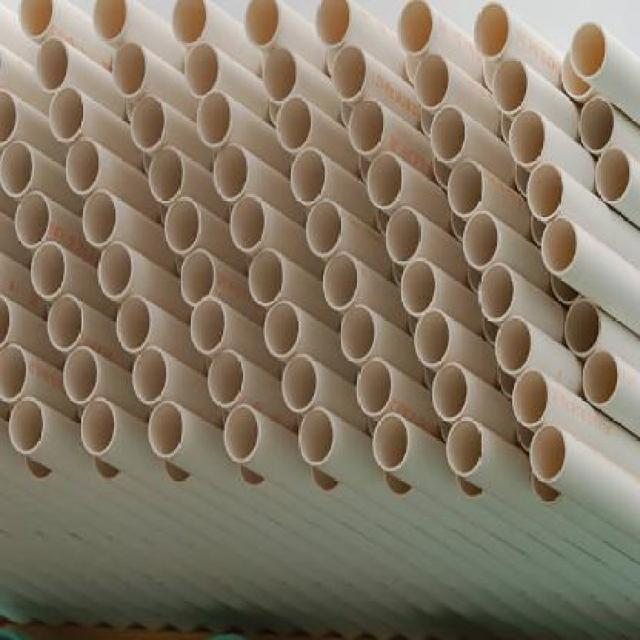pipe: (526, 162, 565, 221), (540, 217, 579, 276), (446, 417, 483, 479), (462, 211, 500, 270), (431, 363, 470, 420), (529, 426, 568, 483), (323, 253, 360, 313), (571, 20, 608, 80), (373, 414, 411, 472), (430, 105, 468, 163), (448, 158, 485, 217), (385, 206, 422, 265), (31, 242, 68, 301), (97, 242, 134, 301), (400, 258, 437, 317), (479, 263, 516, 322), (46, 294, 83, 353), (414, 309, 451, 368), (496, 317, 533, 376), (582, 351, 619, 410), (357, 358, 394, 417), (579, 95, 616, 154), (414, 54, 452, 111), (306, 200, 342, 260), (513, 370, 550, 428), (9, 396, 46, 454), (80, 397, 117, 455), (223, 405, 260, 463), (299, 408, 336, 466), (493, 57, 530, 115), (65, 138, 101, 197), (291, 148, 327, 207), (115, 295, 151, 354), (565, 298, 601, 357), (14, 191, 51, 248), (165, 197, 202, 254), (180, 249, 217, 306), (331, 45, 368, 102), (509, 111, 546, 168), (231, 193, 266, 253), (340, 305, 376, 363), (132, 347, 168, 405), (594, 148, 631, 204), (474, 3, 511, 59), (263, 301, 300, 357), (48, 88, 85, 144), (0, 139, 35, 198), (214, 143, 249, 202), (248, 249, 283, 308), (191, 295, 226, 354), (350, 98, 385, 157), (81, 191, 117, 248), (281, 356, 317, 413), (263, 46, 299, 103), (131, 94, 167, 151), (63, 348, 100, 403), (398, 1, 434, 57), (185, 41, 221, 97), (112, 43, 148, 99), (277, 95, 313, 151), (150, 146, 185, 203), (368, 153, 403, 210), (208, 349, 243, 406), (197, 89, 232, 146), (149, 402, 183, 460), (313, 0, 353, 49), (243, 0, 282, 49), (36, 38, 70, 94), (0, 345, 28, 403), (171, 2, 208, 45), (94, 0, 128, 43), (18, 0, 55, 38), (0, 89, 18, 147)
